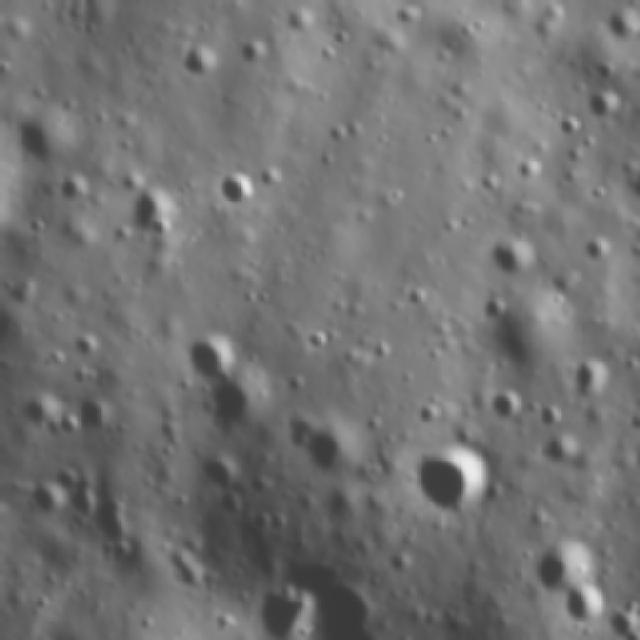crater: (410, 432, 493, 522), (288, 415, 364, 483), (202, 378, 273, 436), (527, 538, 593, 596), (124, 185, 184, 247), (207, 161, 267, 214), (176, 328, 230, 384), (168, 38, 224, 90), (560, 584, 614, 631), (575, 82, 627, 129), (486, 233, 539, 279), (50, 164, 96, 213), (572, 352, 614, 403), (64, 395, 110, 439), (544, 432, 579, 470), (493, 384, 521, 430), (620, 160, 640, 214), (632, 444, 640, 487)
